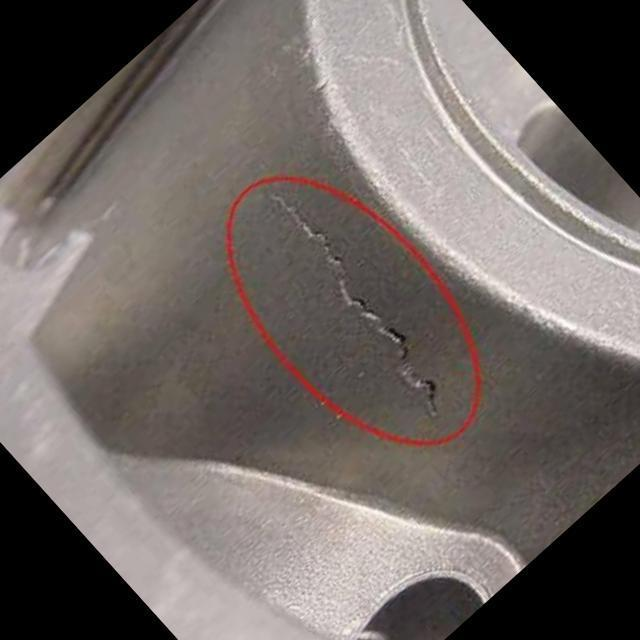defect: (259, 185, 442, 425)
